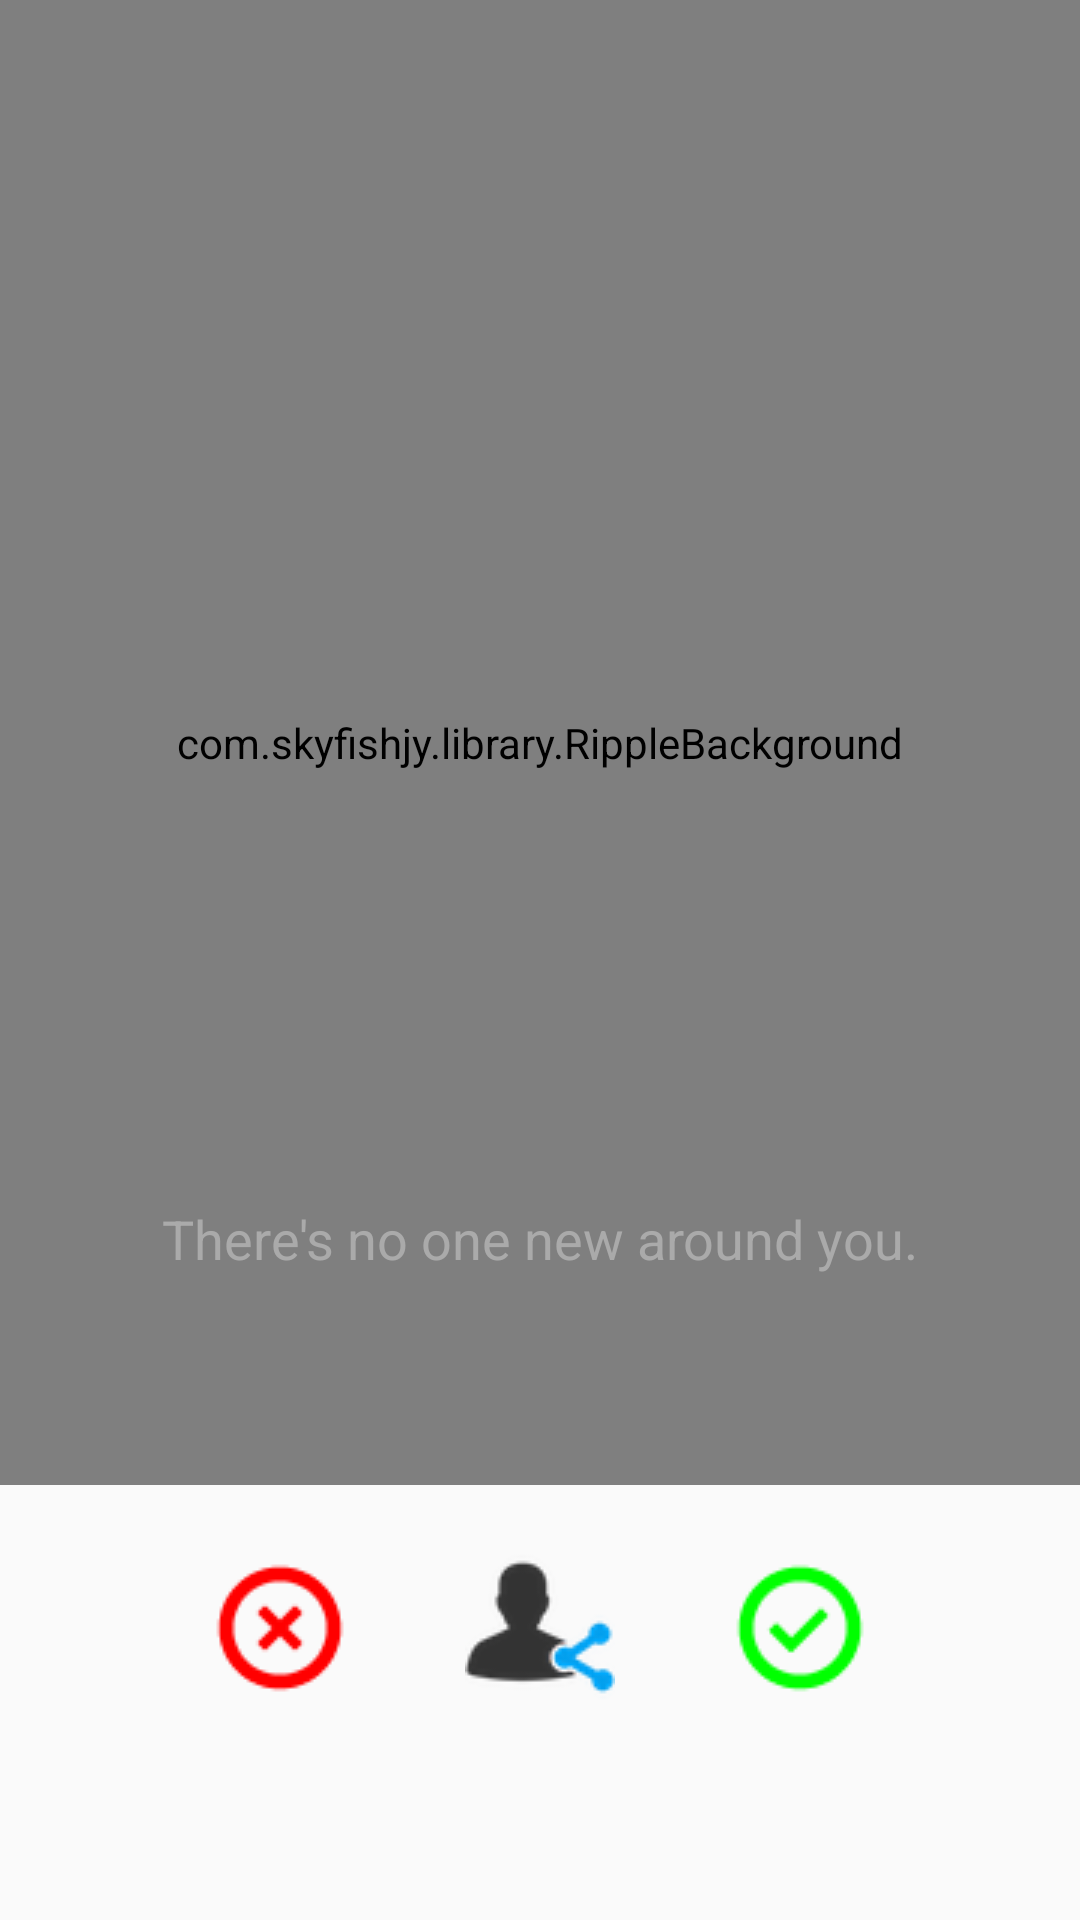

Icon click points for this 1080x1920 phone screenshot, format [x,y]:
cancel: [280,1628]
checkmarktrue: [800,1628]
shareiconcopy: [540,1627]
